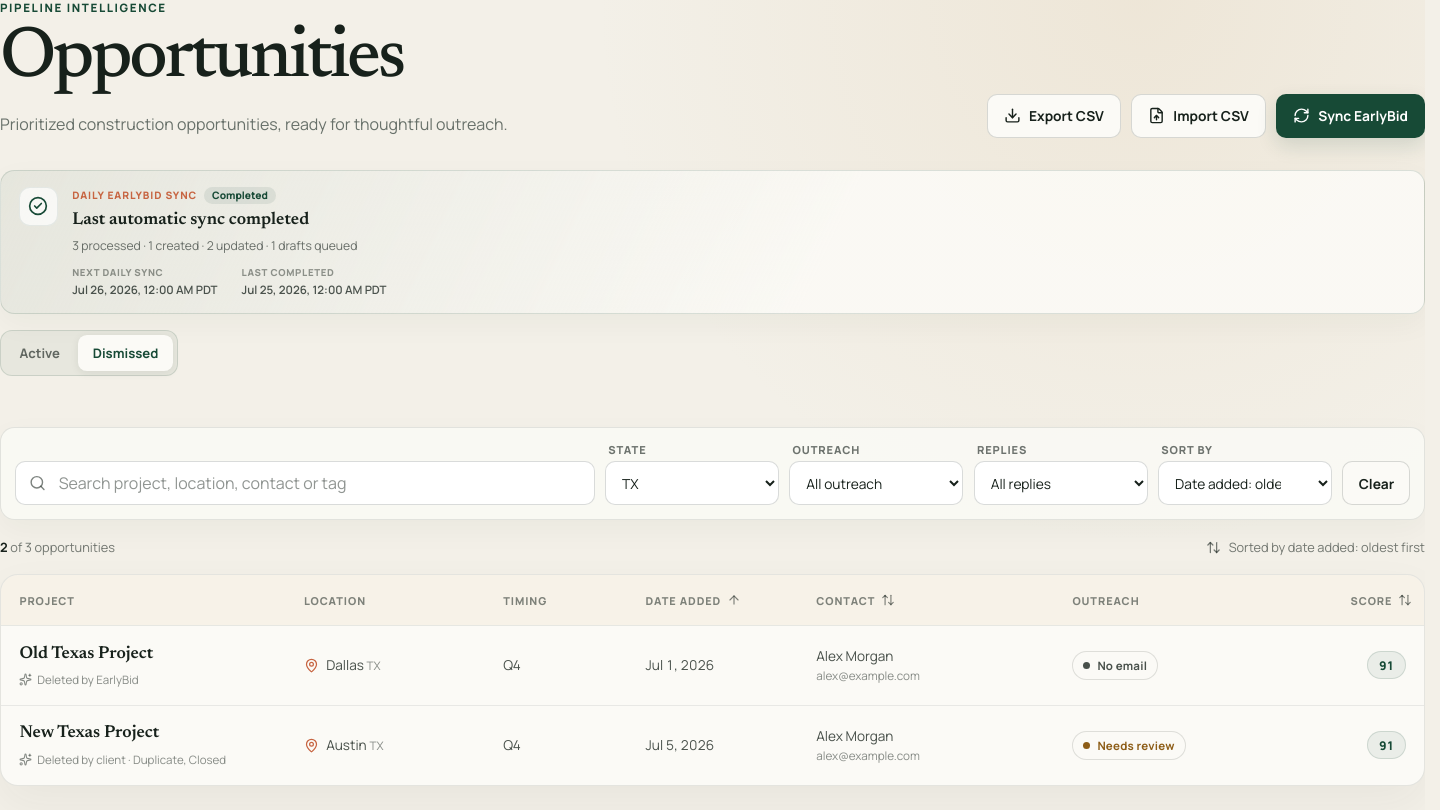
Test: Opportunities list › exports only the filtered current view in its selected order
This screenshot has width=1440, height=810.
Expected: the table named "EarlyBid opportunities" is shown, [1,575,1424,785]
Click the button "Export CSV" at (1054, 116), box [987,94,1121,138]
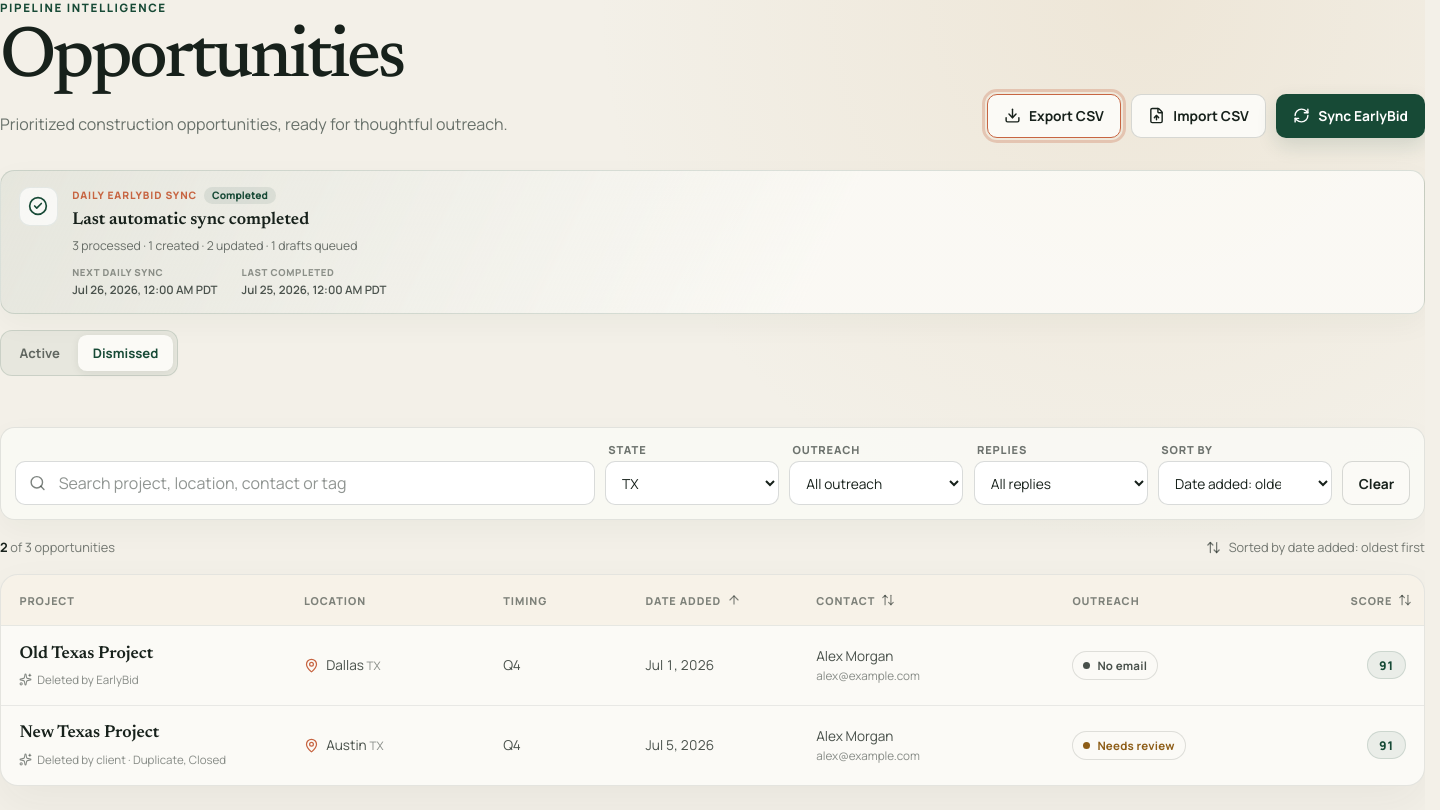
Type "no matching project" into the search field with placeholder "Search project, location, contact or tag" at (318, 483), box [57,462,580,504]
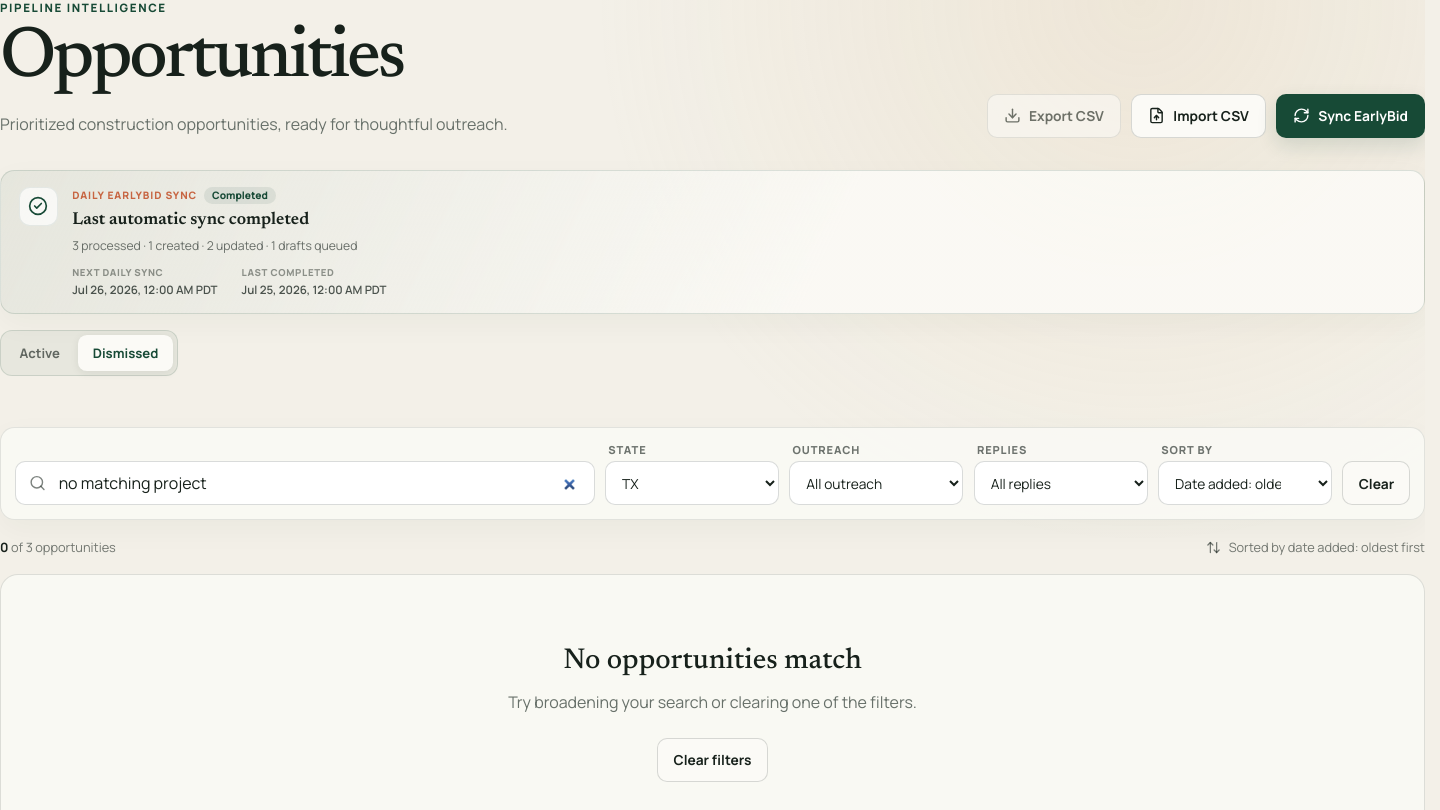
Result: the button "Export CSV" is disabled at [987,94,1121,138]
